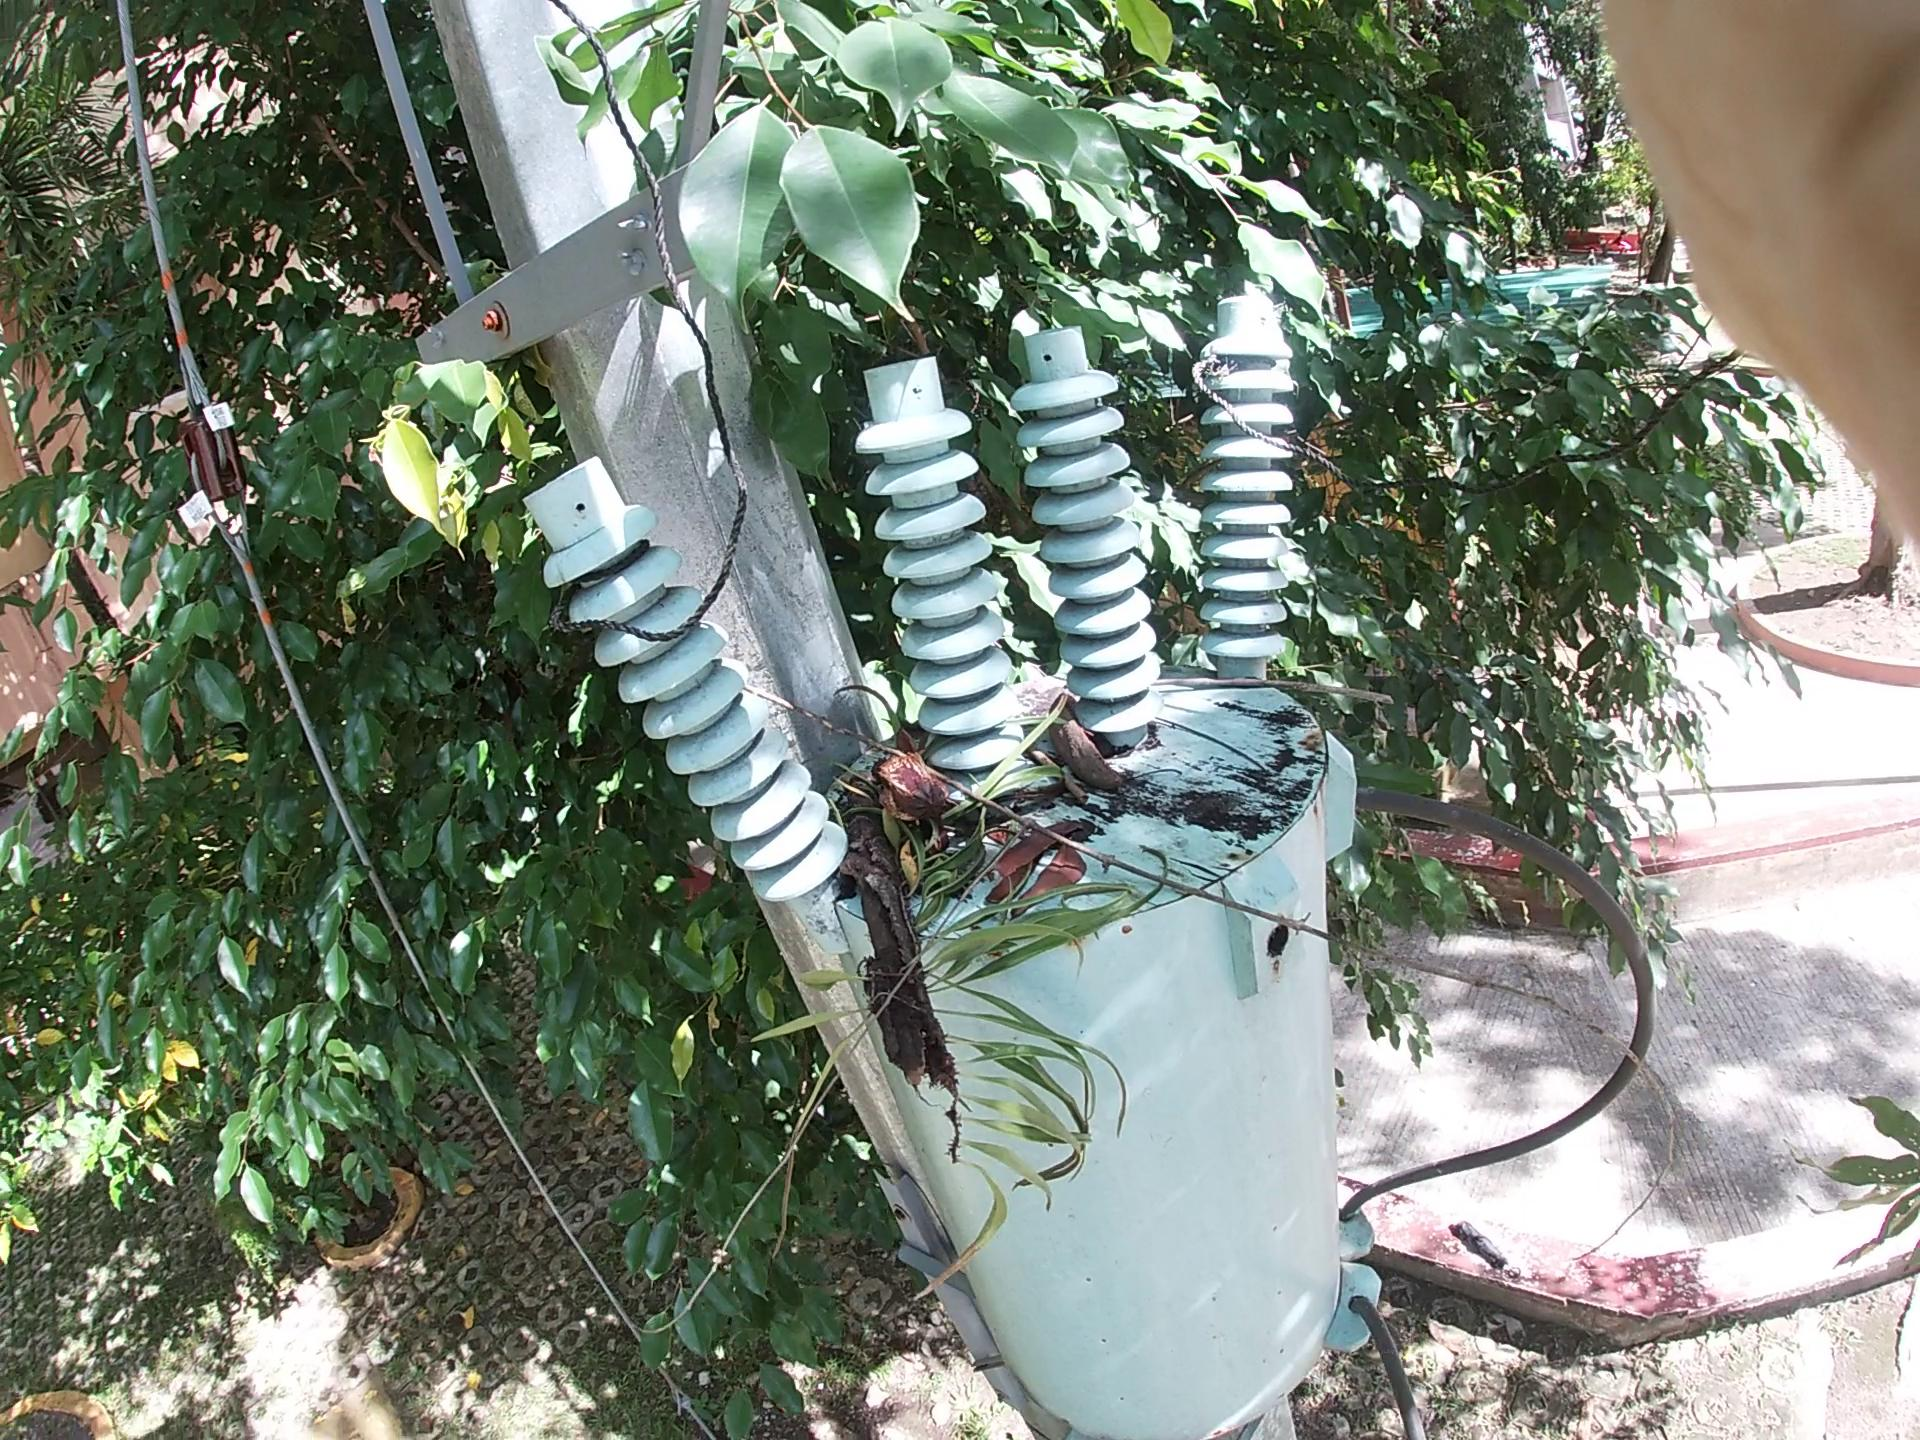branch with leaves: (742, 743, 1063, 1147)
leaf: (962, 844, 1141, 936)
mahogany fruit: (1019, 646, 1219, 812), (862, 711, 1023, 852)
tree branch: (671, 635, 1683, 1095), (1110, 637, 1454, 729), (993, 711, 1132, 870)
